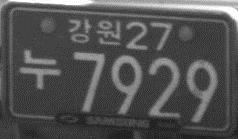2: (147, 57, 181, 119), (125, 21, 147, 51)
7: (71, 51, 106, 113), (149, 21, 173, 49)
9: (186, 57, 218, 122), (110, 54, 143, 115)
강원_O: (68, 16, 122, 45)
누: (19, 48, 61, 90)
